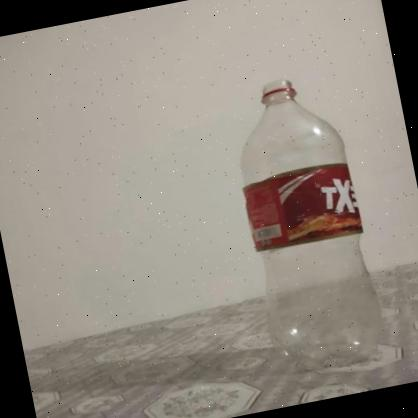bottle: (222, 68, 392, 380)
label: (239, 160, 364, 256)
